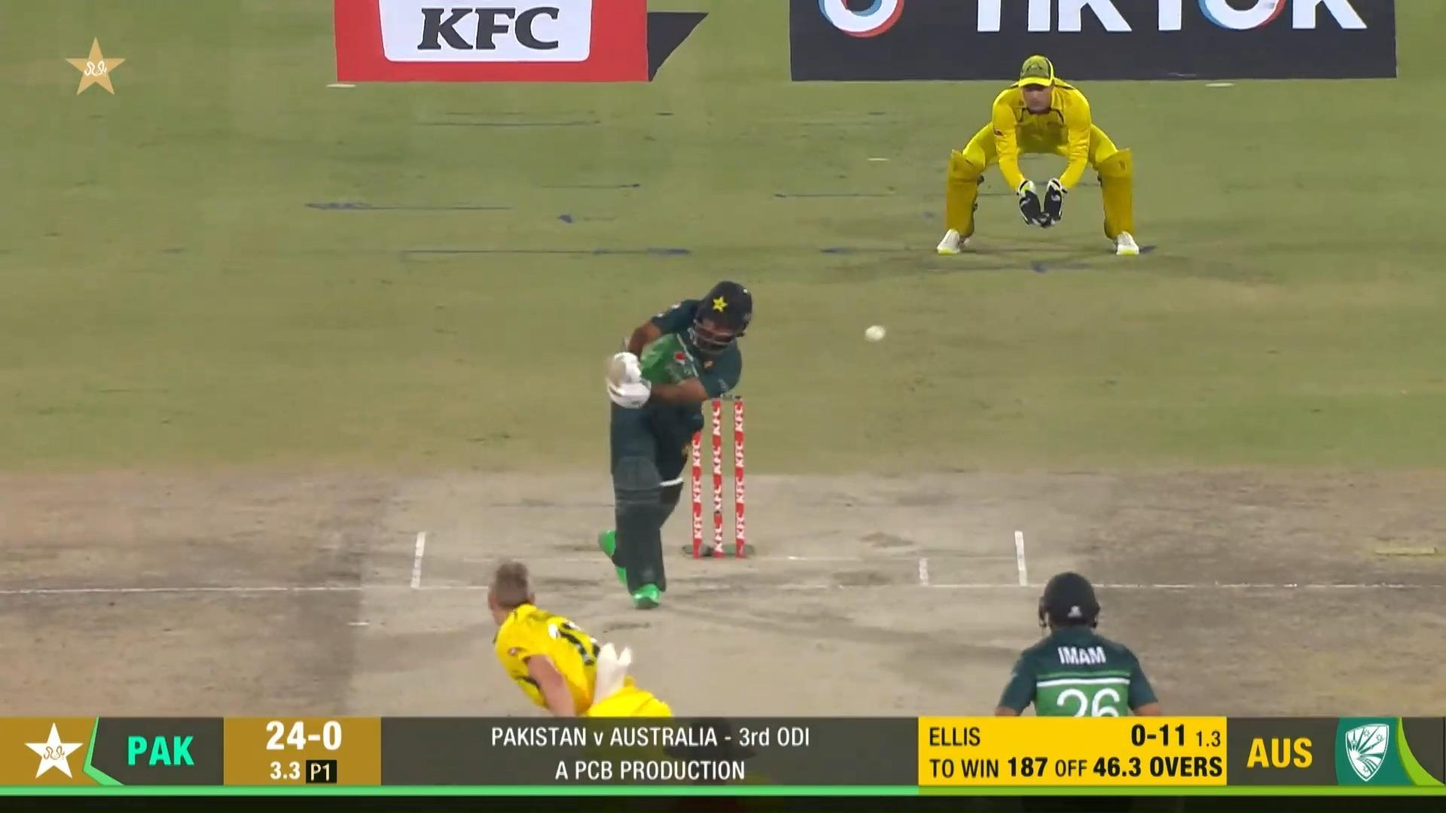BM 1: (598, 279, 755, 609)
BO: (480, 559, 784, 813)
